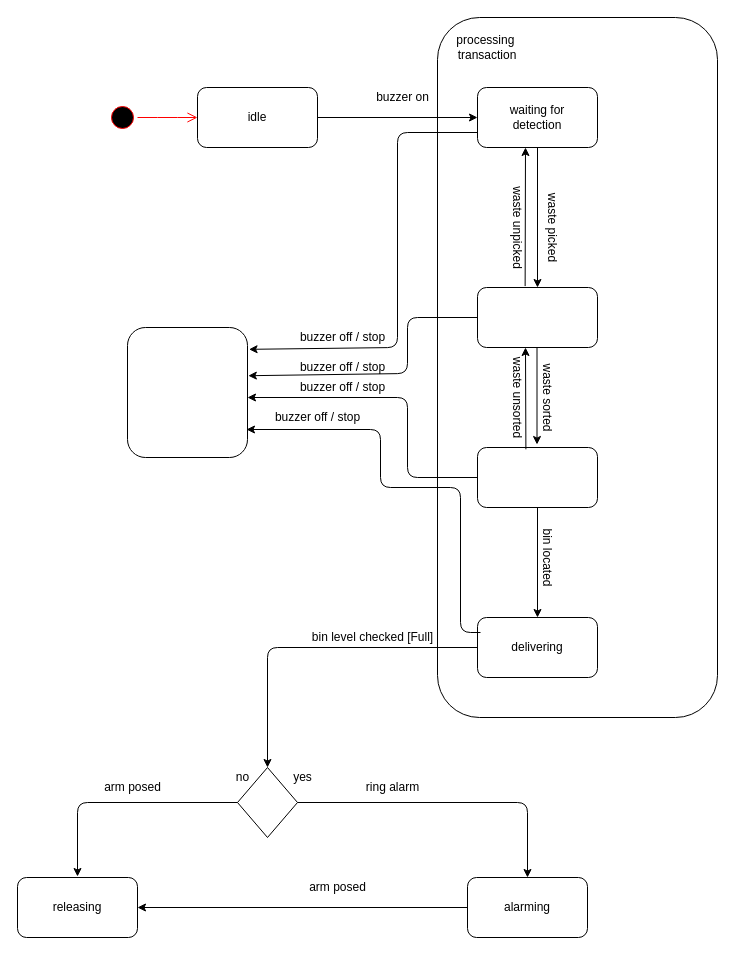
Image size: 735x955. Some labels were removed from this diagram. The shapes that lost their labels are listed below. From the top down, each one's centre as x and y in pixels, then its label:
At (x=537, y=317): "picking".
At (x=187, y=392): "stopping".
At (x=537, y=477): "sorting".
